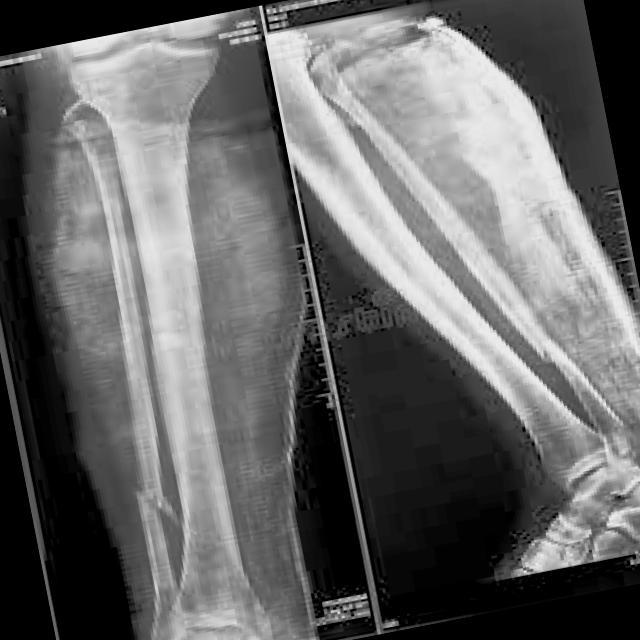Comminuted Fracture: (117, 458, 194, 537), (518, 325, 568, 378)
